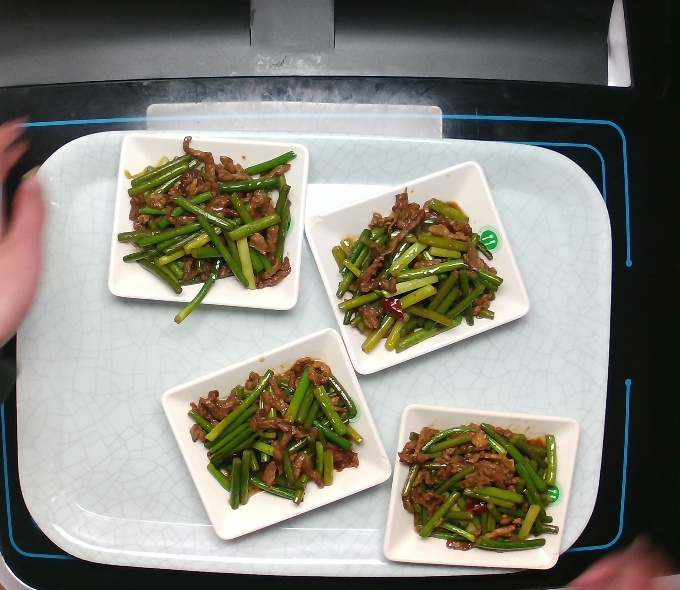wcq-SuanMiaoNiuRou: (110, 132, 299, 327), (328, 185, 508, 358), (183, 351, 369, 513), (393, 416, 564, 557)
